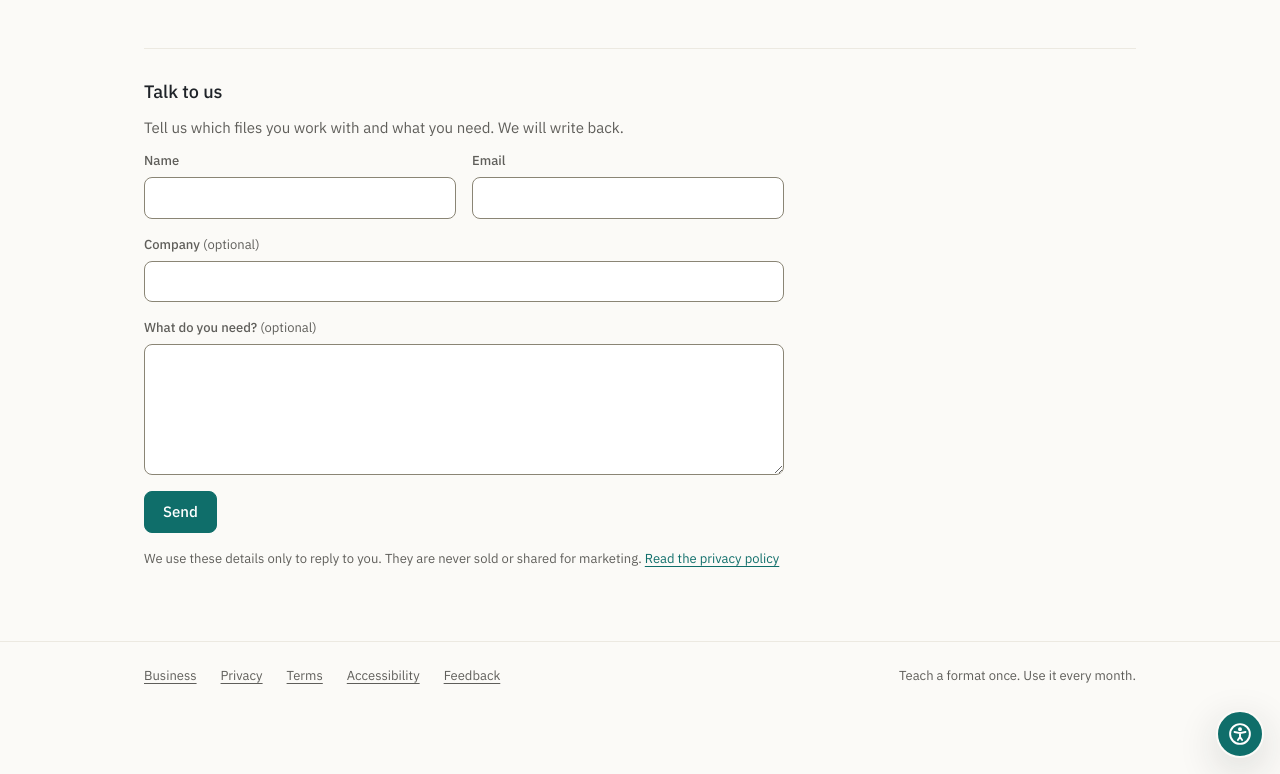
the lead form on the business page › says what is wrong, ties the message to the field, and moves the focus to it - nothing is sent
The image size is (1280, 774).
(page scrolled)
Click the button "Send" at (180, 512), box [144,491,217,533]
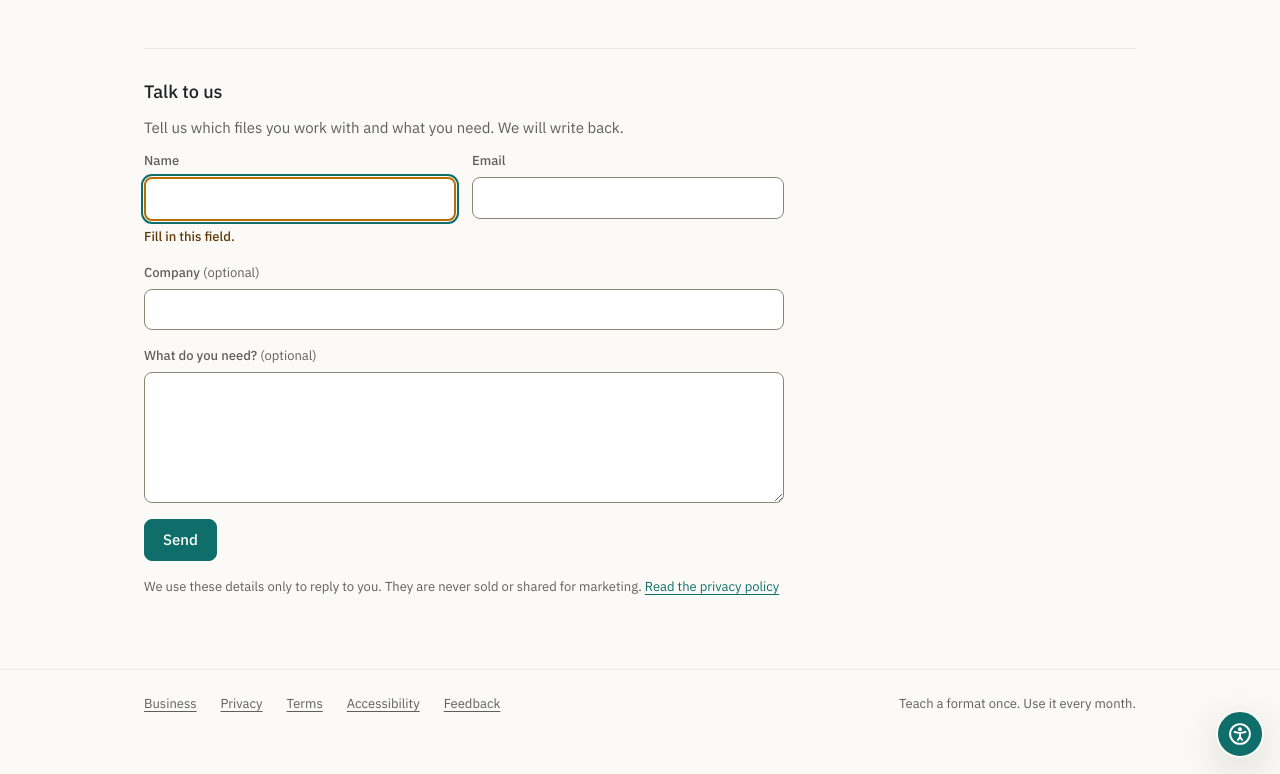
Expected: the text "Fill in this field." is shown, [144,228,235,245]
Type "Dana" into the field labelled "Name" at (300, 199), box [144,177,456,221]
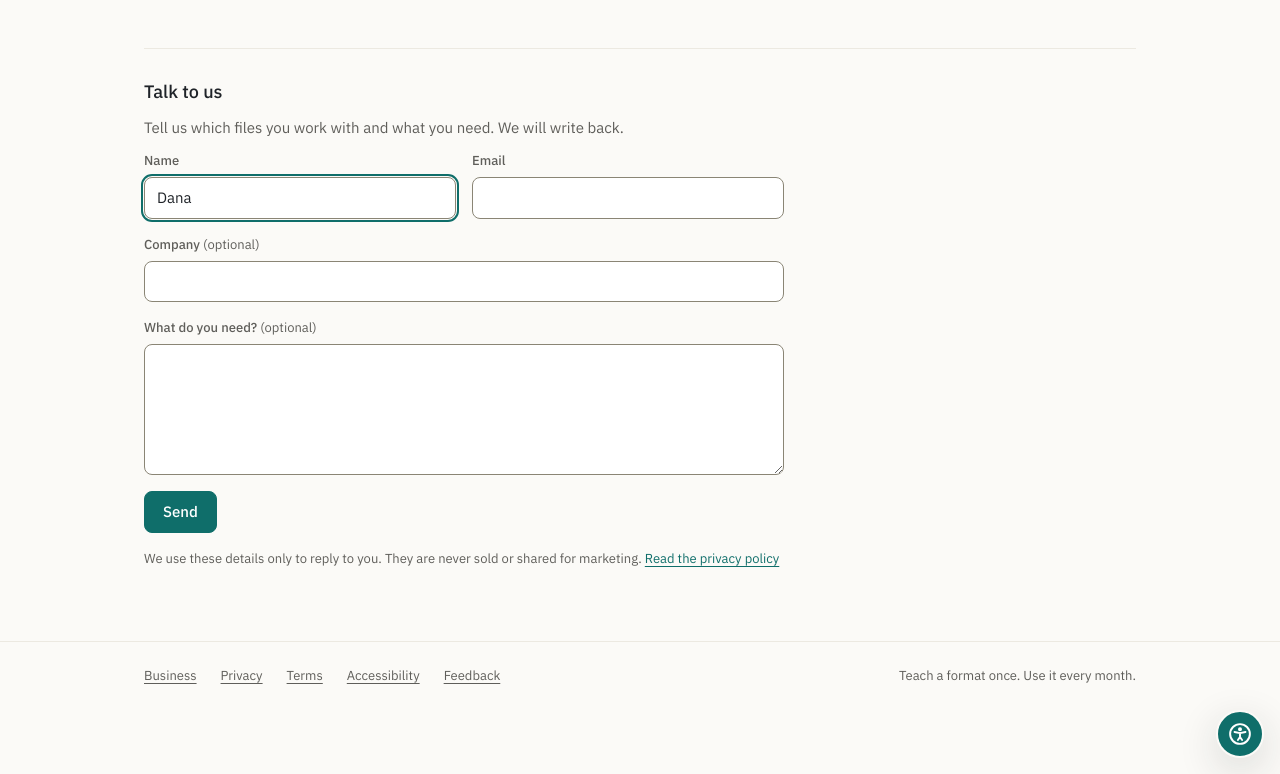
Type "not an email" into the field labelled "Email" at (628, 198), box [472,177,784,219]
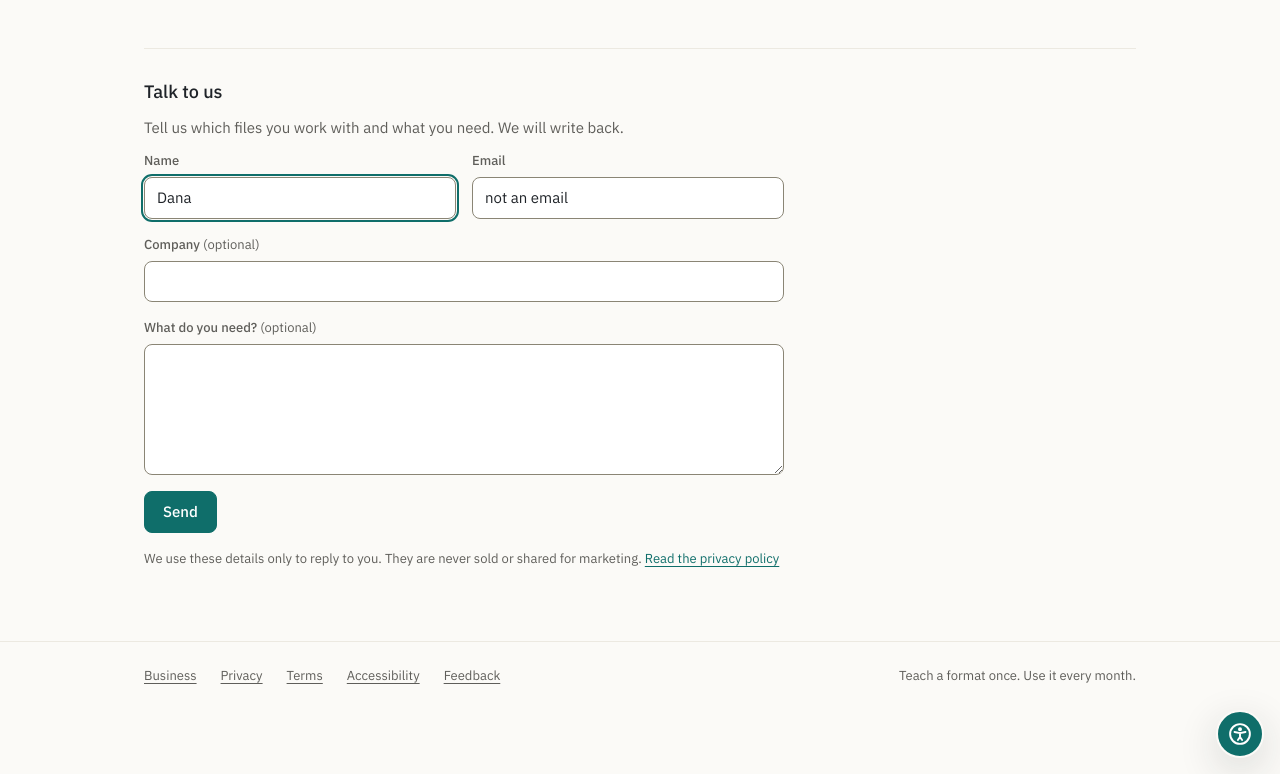
Click the button "Send" at (180, 512), box [144,491,217,533]
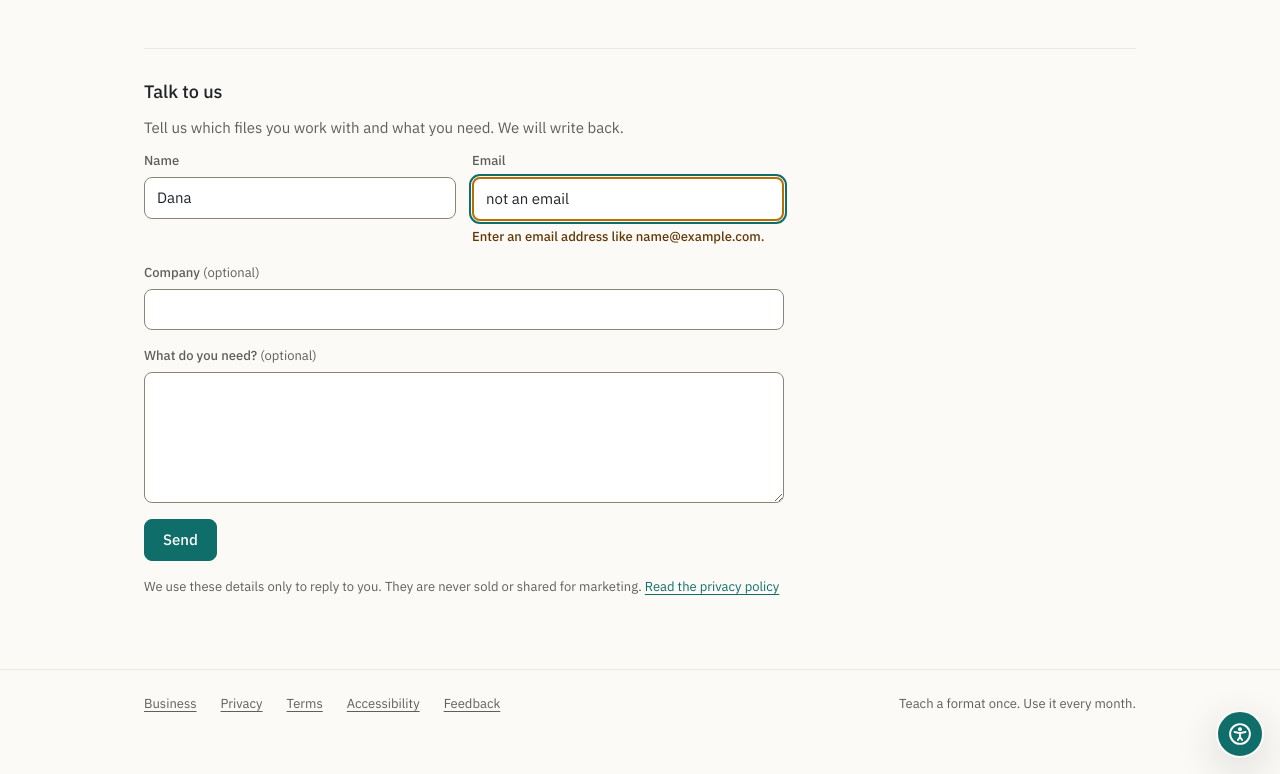
Expected: the text "Enter an email address like name@example.com." is shown, [472,227,784,247]
